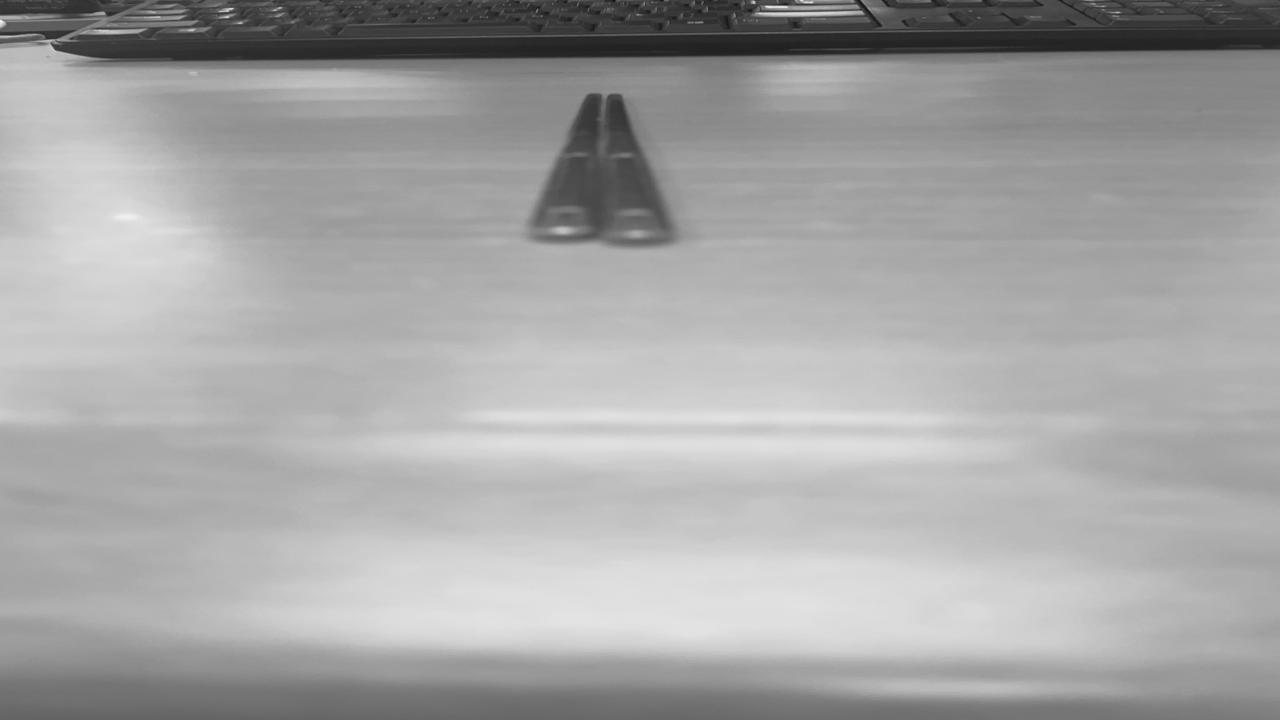chopstick: (536, 92, 662, 240)
